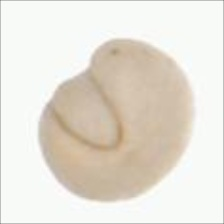L5: (42, 65, 136, 156), (134, 153, 178, 201)
L6: (35, 35, 199, 206)
